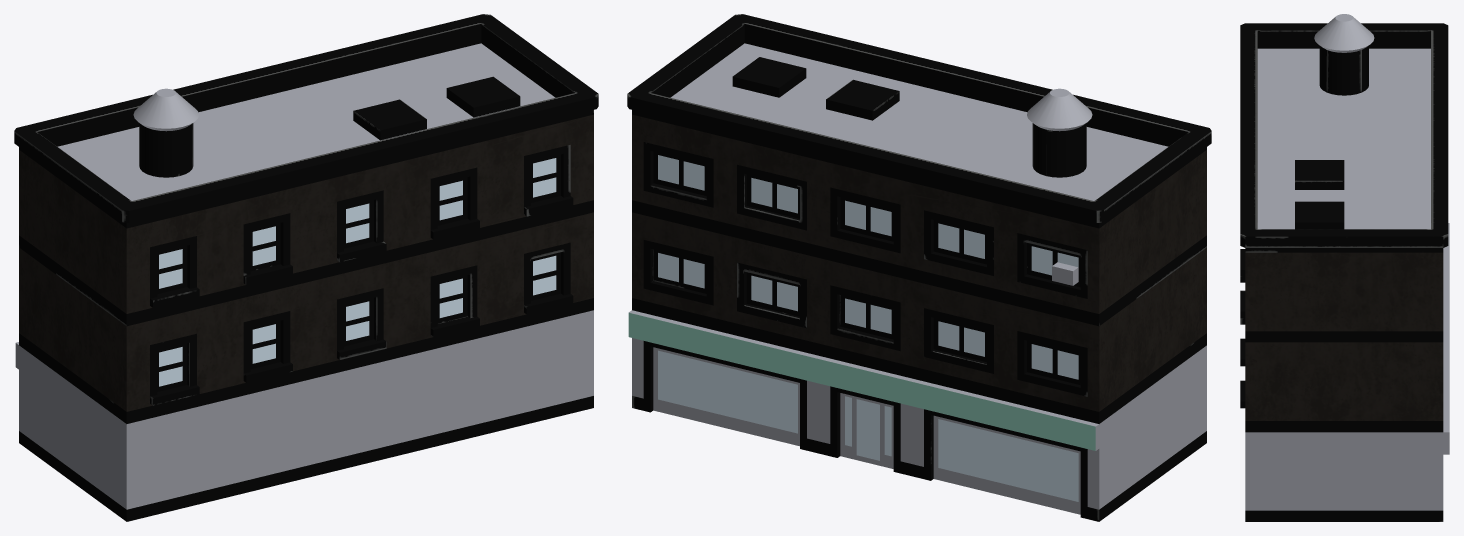
The model's file is large_buildingF1.fbx.
3 views of the same model, side by side, from view 1: azimuth 30°, elevation 25°; view 2: azimuth 150°, elevation 25°; view 3: azimuth 270°, elevation 25° (orthographic). The views are drawn at different scales.
Visible parts, largest first — view 1: large_buildingF; view 2: large_buildingF; view 3: large_buildingF.
Part boxes in pixels (<box>): large_buildingF: <box>14,14,598,521</box>; large_buildingF: <box>627,14,1211,521</box>; large_buildingF: <box>1240,14,1449,521</box>.
Bounding box in the file's own units: 204 × 150 × 84.5.
